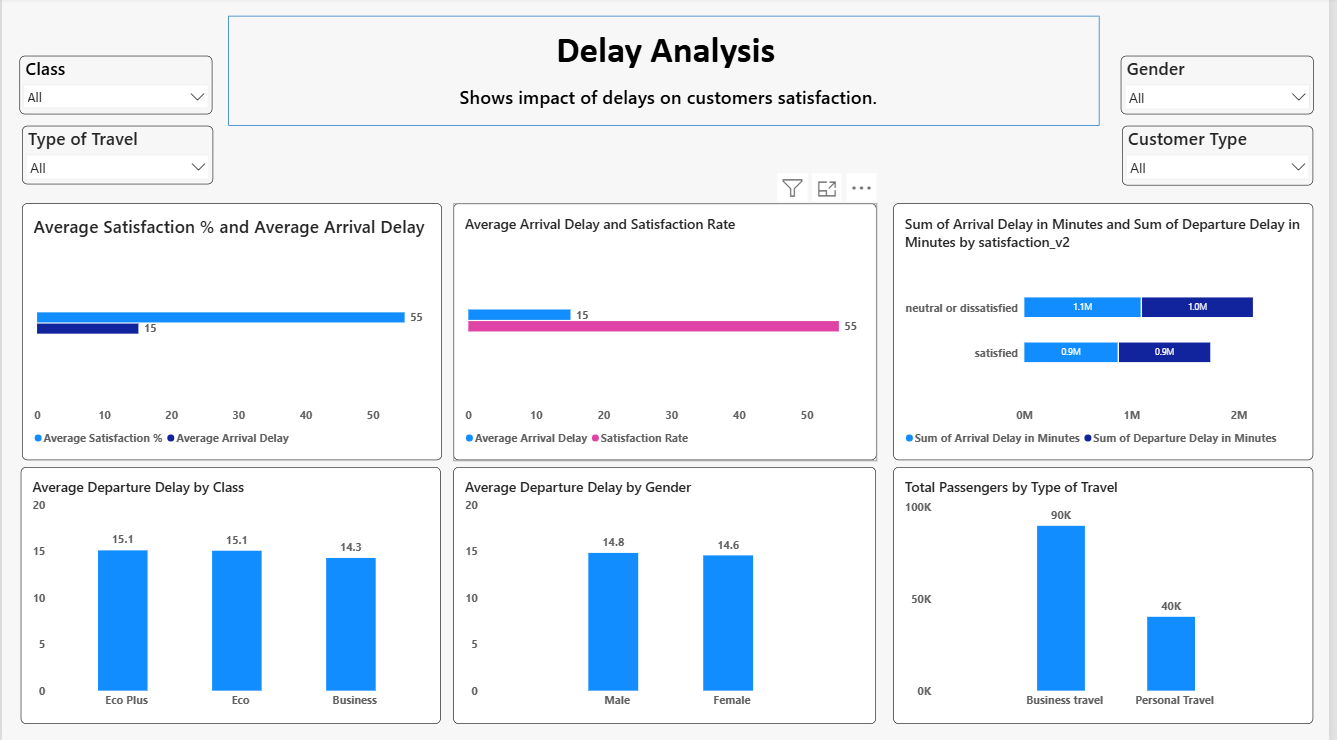

This screenshot's page, from the dashboard's own definition file:
{"tool":"powerbi","page":{"name":"Page 2","canvas":[1920,1080],"ordinal":1},"visuals":[{"type":"slicer","fields":{"Values":["Airline Passenger Satisfaction data.Class"]},"box":[26,84.4,279.2,84.4],"z":0},{"type":"slicer","fields":{"Values":["Airline Passenger Satisfaction data.Type of Travel"]},"box":[28.1,186.1,277,84.4],"z":1000},{"type":"clusteredBarChart","fields":{"Y":["Airline Passenger Satisfaction data.Average Satisfaction %","Airline Passenger Satisfaction data.Average Arrival Delay"]},"box":[28.1,298.7,608.1,372.2],"z":2000},{"type":"barChart","fields":{"Category":["Airline Passenger Satisfaction data.satisfaction_v2"],"Y":["Sum(Airline Passenger Satisfaction data.Arrival Delay in Minutes)","Sum(Airline Passenger Satisfaction data.Departure Delay in Minutes)"]},"box":[1289.8,298.7,608.1,372.2],"z":4000},{"type":"clusteredColumnChart","fields":{"Category":["Airline Passenger Satisfaction data.Class"],"Y":["Airline Passenger Satisfaction data.Average Departure Delay"]},"box":[28,681,608,372],"z":5000},{"type":"columnChart","fields":{"Category":["Airline Passenger Satisfaction data.Gender"],"Y":["Airline Passenger Satisfaction data.Average Departure Delay"]},"box":[654,681,612,372],"z":6000},{"type":"clusteredColumnChart","fields":{"Category":["Airline Passenger Satisfaction data.Type of Travel"],"Y":["Airline Passenger Satisfaction data.Total Passengers"]},"box":[1290,681,608,372],"z":7000},{"type":"slicer","fields":{"Values":["Airline Passenger Satisfaction data.Customer Type"]},"box":[1620.9,186.1,277,86.6],"z":8000},{"type":"slicer","fields":{"Values":["Airline Passenger Satisfaction data.Gender"]},"box":[1618.8,84.4,279.2,84.4],"z":9000},{"type":"clusteredBarChart","fields":{"Y":["Airline Passenger Satisfaction data.Average Arrival Delay","Airline Passenger Satisfaction data.Satisfaction Rate"]},"box":[653.6,298.7,612.5,372.2],"z":9001},{"type":"shape","box":[327.5,27.1,1261.3,159.3],"z":9002},{"type":"textbox","box":[347.5,43.4,1227,126.7],"z":9003}]}

Visuals, with their boxes in screenshot pixels (x1, y1, x2, y2), scaled from the page's 1920x1080 canvas onto the 1337x740 screenshot:
slicer - Airline Passenger Satisfaction data.Class: [18,58,213,116]
slicer - Airline Passenger Satisfaction data.Type of Travel: [20,128,212,185]
clusteredBarChart - Airline Passenger Satisfaction data.Average Satisfaction % x Airline Passenger Satisfaction data.Average Arrival Delay: [20,205,443,460]
barChart - Airline Passenger Satisfaction data.satisfaction_v2 x Sum(Airline Passenger Satisfaction data.Arrival Delay in Minutes): [898,205,1322,460]
clusteredColumnChart - Airline Passenger Satisfaction data.Class x Airline Passenger Satisfaction data.Average Departure Delay: [19,467,443,722]
columnChart - Airline Passenger Satisfaction data.Gender x Airline Passenger Satisfaction data.Average Departure Delay: [455,467,882,722]
clusteredColumnChart - Airline Passenger Satisfaction data.Type of Travel x Airline Passenger Satisfaction data.Total Passengers: [898,467,1322,722]
slicer - Airline Passenger Satisfaction data.Customer Type: [1129,128,1322,187]
slicer - Airline Passenger Satisfaction data.Gender: [1127,58,1322,116]
clusteredBarChart - Airline Passenger Satisfaction data.Average Arrival Delay x Airline Passenger Satisfaction data.Satisfaction Rate: [455,205,882,460]
shape: [228,19,1106,128]
textbox: [242,30,1096,117]
